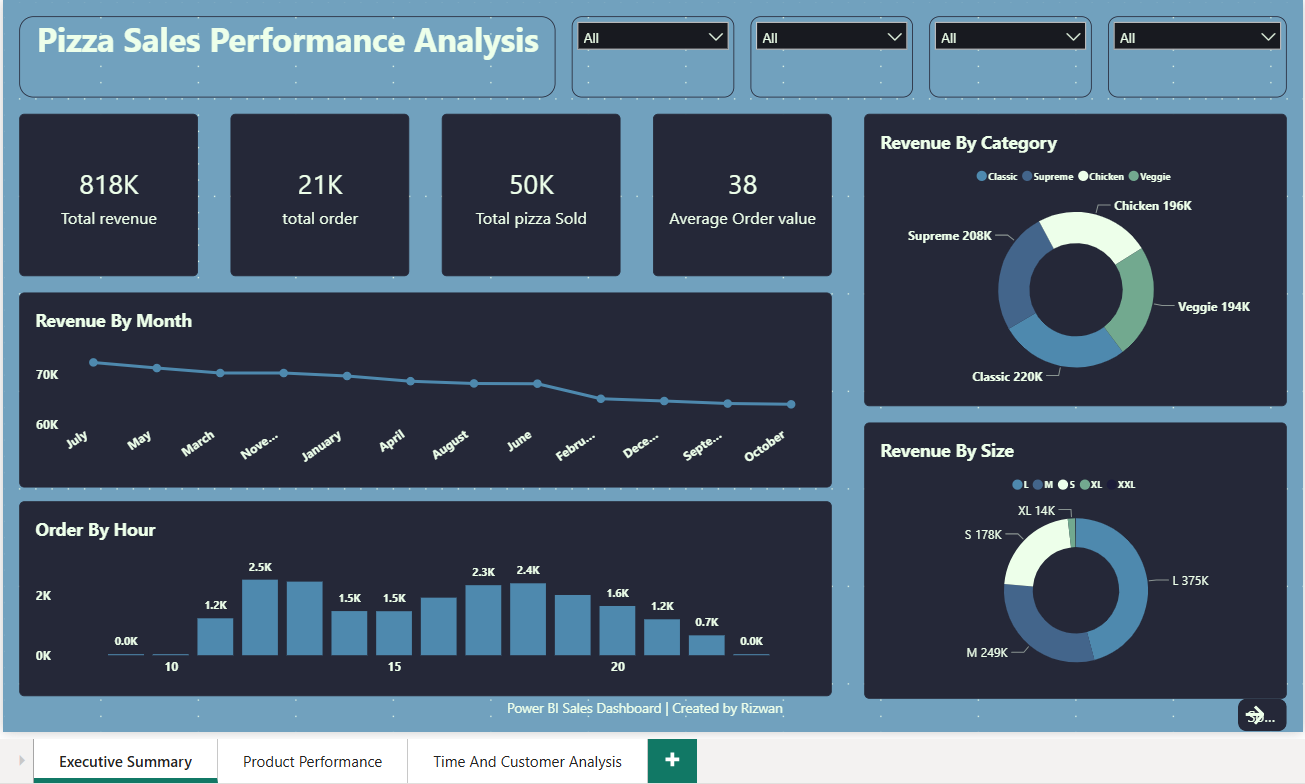

What the dashboard file says about the page in this screenshot:
{"tool":"powerbi","page":{"name":"Executive Summary","canvas":[1280,720],"ordinal":0},"visuals":[{"type":"textbox","box":[16,16,528,80],"z":0},{"type":"card","fields":{"Values":["pizza_sales.Total_revenue"]},"box":[16,112,144,160],"z":1000},{"type":"card","fields":{"Values":["pizza_sales.Total pizza Sold"]},"box":[336,112,144,160],"z":2000},{"type":"card","fields":{"Values":["pizza_sales.total_order"]},"box":[176,112,144,160],"z":3000},{"type":"card","fields":{"Values":["pizza_sales.Average Order value"]},"box":[496,112,144,160],"z":4000},{"type":"lineChart","title":"Revenue By Month","fields":{"Y":["pizza_sales.Total_revenue"],"Category":["pizza_sales.Month Name"]},"box":[16,288,784,192],"z":5000},{"type":"clusteredColumnChart","title":"Order By Hour","fields":{"Category":["pizza_sales.Hour"],"Y":["pizza_sales.total_order"]},"box":[16,496,784,192],"z":6000},{"type":"donutChart","title":"Revenue By Category","fields":{"Category":["pizza_sales.pizza_category"],"Y":["pizza_sales.Total_revenue"]},"box":[816,112,448,288],"z":7000},{"type":"donutChart","title":"Revenue By Size","fields":{"Category":["pizza_sales.pizza_size"],"Y":["pizza_sales.Total_revenue"]},"box":[816,416,448,272],"z":8000},{"type":"slicer","title":"Pizza Size","fields":{"Values":["pizza_sales.pizza_size"]},"box":[560,16,160,80],"z":9000},{"type":"slicer","fields":{"Values":["pizza_sales.pizza_category"]},"box":[736,16,160,80],"z":10000},{"type":"slicer","fields":{"Values":["pizza_sales.Month Name"]},"box":[912,16,160,80],"z":11000},{"type":"slicer","fields":{"Values":["pizza_sales.Day Type"]},"box":[1088,16,176,80],"z":12000},{"type":"actionButton","box":[1216,688,48,32],"z":13000},{"type":"textbox","box":[464,688,336,32],"z":14000},{"type":"card","fields":{"Values":["CountNonNull(pizza_sales.order_id)"]},"box":[656,112,144,160],"z":15000}]}

Visuals, with their boxes on the page's 1280x720 design canvas (x1, y1, x2, y2). These are canvas units, not pixel positions in the 1305x784 screenshot, which may show the page scaled, cropped or inside an application window:
textbox: bbox=[16, 16, 544, 96]
card - pizza_sales.Total_revenue: bbox=[16, 112, 160, 272]
card - pizza_sales.Total pizza Sold: bbox=[336, 112, 480, 272]
card - pizza_sales.total_order: bbox=[176, 112, 320, 272]
card - pizza_sales.Average Order value: bbox=[496, 112, 640, 272]
"Revenue By Month" lineChart: bbox=[16, 288, 800, 480]
"Order By Hour" clusteredColumnChart: bbox=[16, 496, 800, 688]
"Revenue By Category" donutChart: bbox=[816, 112, 1264, 400]
"Revenue By Size" donutChart: bbox=[816, 416, 1264, 688]
"Pizza Size" slicer: bbox=[560, 16, 720, 96]
slicer - pizza_sales.pizza_category: bbox=[736, 16, 896, 96]
slicer - pizza_sales.Month Name: bbox=[912, 16, 1072, 96]
slicer - pizza_sales.Day Type: bbox=[1088, 16, 1264, 96]
actionButton: bbox=[1216, 688, 1264, 720]
textbox: bbox=[464, 688, 800, 720]
card - CountNonNull(pizza_sales.order_id): bbox=[656, 112, 800, 272]
